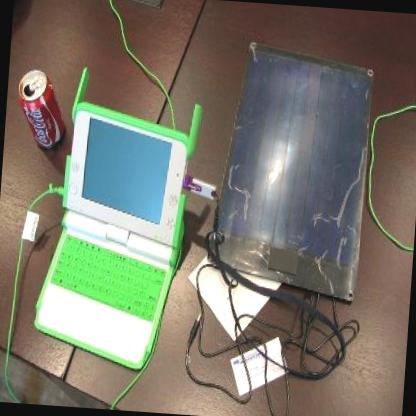alumunium_can: (14, 70, 71, 151)
